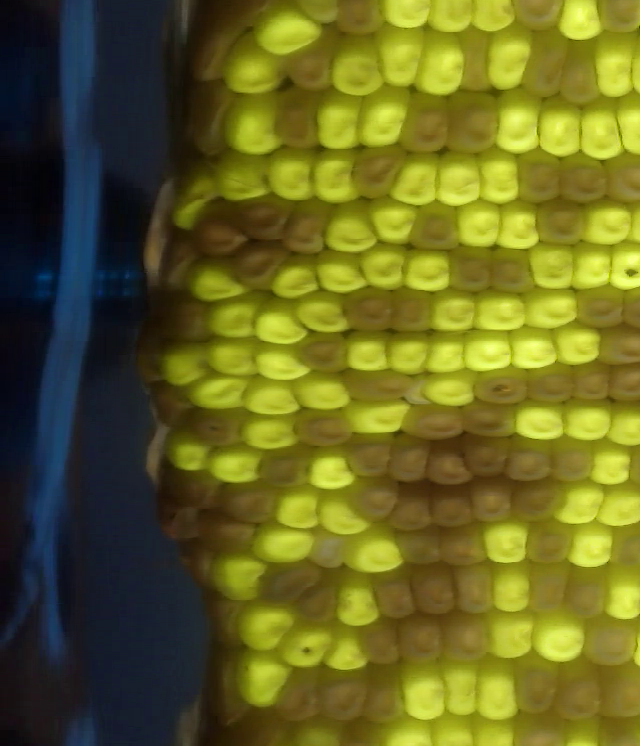fluorescent: (224, 34, 291, 91), (225, 92, 284, 155), (256, 4, 323, 54), (493, 88, 542, 156), (531, 606, 586, 664), (230, 599, 291, 651), (558, 518, 614, 574), (234, 655, 292, 708), (331, 37, 383, 96), (419, 33, 465, 99), (378, 25, 423, 91), (360, 87, 407, 148), (596, 33, 638, 101), (578, 195, 631, 248), (402, 664, 452, 720), (441, 661, 488, 720), (251, 522, 315, 565), (488, 604, 538, 659), (325, 207, 382, 255), (582, 99, 625, 162), (538, 97, 581, 160), (214, 153, 273, 198), (509, 323, 561, 374), (312, 151, 362, 204), (489, 25, 530, 88), (475, 666, 521, 722), (312, 251, 370, 295), (268, 151, 318, 202), (317, 96, 366, 148), (215, 555, 268, 603), (323, 622, 370, 676), (475, 148, 521, 203), (205, 298, 265, 340), (392, 155, 438, 208), (172, 169, 214, 227), (189, 257, 249, 297), (336, 570, 378, 627), (270, 253, 319, 301), (556, 477, 605, 525), (479, 519, 528, 567), (554, 318, 598, 371), (346, 402, 408, 439), (402, 248, 454, 292), (523, 292, 583, 330), (283, 619, 330, 667), (529, 244, 575, 293), (460, 199, 505, 249), (296, 293, 352, 333), (157, 340, 210, 382), (499, 199, 540, 253), (361, 246, 409, 292), (370, 196, 415, 245), (573, 238, 613, 293), (507, 407, 568, 443), (256, 307, 312, 346), (349, 533, 402, 574), (347, 329, 393, 376), (466, 330, 514, 375), (434, 153, 478, 202), (430, 293, 481, 335), (475, 291, 531, 329), (208, 443, 257, 486), (589, 443, 633, 490), (254, 343, 308, 381), (207, 335, 257, 376), (238, 417, 299, 450), (389, 330, 434, 374), (424, 334, 472, 375), (278, 491, 326, 532), (605, 237, 640, 293), (600, 480, 640, 529), (605, 566, 640, 622), (489, 566, 528, 616), (298, 374, 354, 408), (197, 378, 250, 411), (321, 501, 372, 535), (425, 374, 479, 406), (562, 3, 604, 44), (167, 432, 210, 472), (426, 714, 475, 746), (568, 402, 609, 440), (310, 455, 354, 490), (245, 385, 302, 412), (608, 401, 640, 448), (431, 1, 476, 33), (379, 1, 429, 28), (468, 718, 515, 746), (379, 718, 425, 746), (472, 1, 514, 30)
nonfluorescent: (157, 461, 226, 514), (449, 88, 500, 156), (183, 80, 229, 153), (152, 290, 214, 344), (400, 87, 447, 155), (523, 25, 566, 99), (513, 651, 560, 717), (318, 671, 370, 730), (272, 88, 318, 154), (554, 655, 600, 720), (291, 24, 334, 93), (439, 612, 493, 665), (193, 512, 258, 556), (560, 150, 610, 207), (361, 666, 409, 725), (519, 145, 565, 206), (224, 478, 284, 524), (412, 560, 458, 620), (234, 193, 289, 243), (582, 618, 638, 667), (568, 562, 612, 623), (504, 430, 551, 487), (277, 671, 324, 728), (444, 244, 494, 297), (191, 207, 245, 256), (597, 662, 640, 723), (561, 37, 599, 106), (283, 199, 329, 256), (192, 24, 236, 83), (350, 148, 398, 202), (257, 449, 313, 495), (528, 557, 570, 618), (461, 23, 496, 96), (340, 285, 392, 334), (307, 562, 345, 628), (256, 559, 314, 602), (384, 433, 431, 486), (371, 567, 415, 623), (349, 480, 399, 529), (425, 438, 476, 486), (462, 433, 510, 483), (298, 408, 357, 448), (442, 520, 489, 570), (477, 365, 531, 408), (409, 399, 467, 439), (397, 616, 444, 665), (568, 287, 624, 328), (535, 204, 587, 248), (463, 396, 517, 438), (452, 564, 494, 618), (408, 202, 456, 249), (552, 435, 593, 490), (487, 249, 536, 295), (347, 370, 417, 402), (231, 245, 283, 288), (509, 481, 561, 524), (387, 524, 440, 566), (566, 359, 613, 406), (362, 620, 407, 669), (525, 360, 572, 406), (150, 381, 195, 429), (345, 433, 389, 482), (298, 334, 351, 374), (389, 286, 434, 333), (207, 651, 239, 717), (386, 491, 434, 534), (430, 488, 479, 530), (189, 409, 245, 445), (240, 706, 289, 746), (529, 517, 573, 561), (602, 153, 640, 203), (159, 230, 191, 289), (599, 327, 640, 366), (471, 485, 513, 523), (512, 1, 563, 31), (331, 1, 376, 34), (610, 357, 640, 404), (513, 716, 560, 746), (598, 1, 640, 34), (211, 597, 236, 648), (598, 718, 640, 746)
